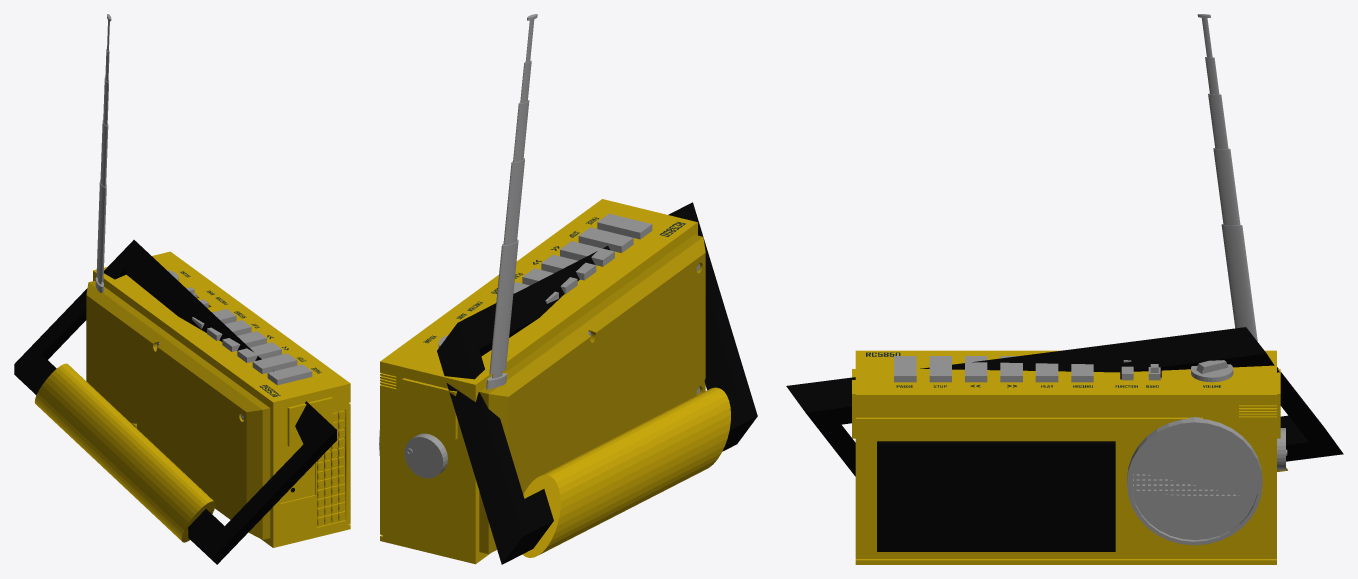
File: Radio.fbx
The picture shows the model from 3 angles, left to right: view 1: azimuth 30°, elevation 25°; view 2: azimuth 150°, elevation 25°; view 3: azimuth 270°, elevation 25°; orthographic projection. The views are drawn at different scales.
Parts seen in each view (by area): view 1: RadioBackBody, RadioBody, Handle.002, Handle.001, Antena, Side, Btn, Btn.001, Btn.002, Btn.003; view 2: RadioBackBody, RadioBody, Handle.002, Handle.001, Antena, Side.001, SideBtn, Btn, Btn.001, Btn.002, Btn.003, Btn.004; view 3: RadioBody, Cassett, Sound, Handle.002, Antena.
Boxes of the visible parts, x1,y1,x2,y2 form: RadioBackBody: (86,280,270,539); RadioBody: (93,251,350,547); Handle.002: (14,240,336,564); Handle.001: (34,363,215,542); Antena: (95,14,111,292); Side: (287,397,332,446); Btn: (267,364,312,385); Btn.001: (252,353,297,374); Btn.002: (237,342,281,362); Btn.003: (222,331,266,351); RadioBackBody: (479,234,705,553); RadioBody: (380,199,697,564); Handle.002: (437,202,757,564); Handle.001: (522,387,730,557); Antena: (486,14,537,389); Side.001: (402,378,457,439); SideBtn: (404,433,447,478); Btn: (597,213,652,239); Btn.001: (578,227,633,252); Btn.002: (560,241,614,266); Btn.003: (541,254,596,280); Btn.004: (522,268,577,293); RadioBody: (855,350,1276,564); Cassett: (877,441,1115,551); Sound: (1127,417,1262,545); Handle.002: (786,327,1343,476); Antena: (1197,14,1257,341).
Size of the model in its own units: 82.98 by 241 by 236.
